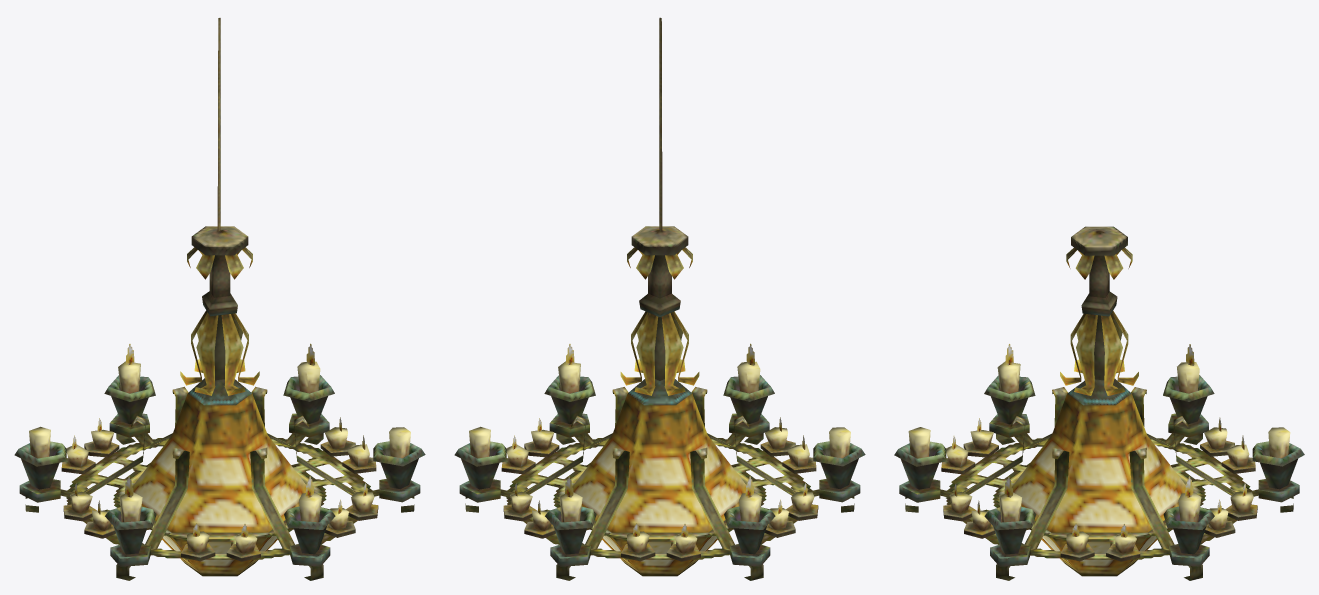
The picture shows the model from 3 angles, left to right: view 1: azimuth 30°, elevation 25°; view 2: azimuth 150°, elevation 25°; view 3: azimuth 270°, elevation 25°; orthographic projection.
Parts seen in each view (by area): view 1: churchlamp_01; view 2: churchlamp_01; view 3: churchlamp_01.
Part boxes in pixels (x1,y1,x2,y2): churchlamp_01: (14, 18, 425, 580); churchlamp_01: (454, 17, 865, 580); churchlamp_01: (894, 226, 1304, 580).
Bounding box in the file's own units: 0.0324 × 0.0551 × 0.0374.
Materials: 3 (3 with a texture image).
